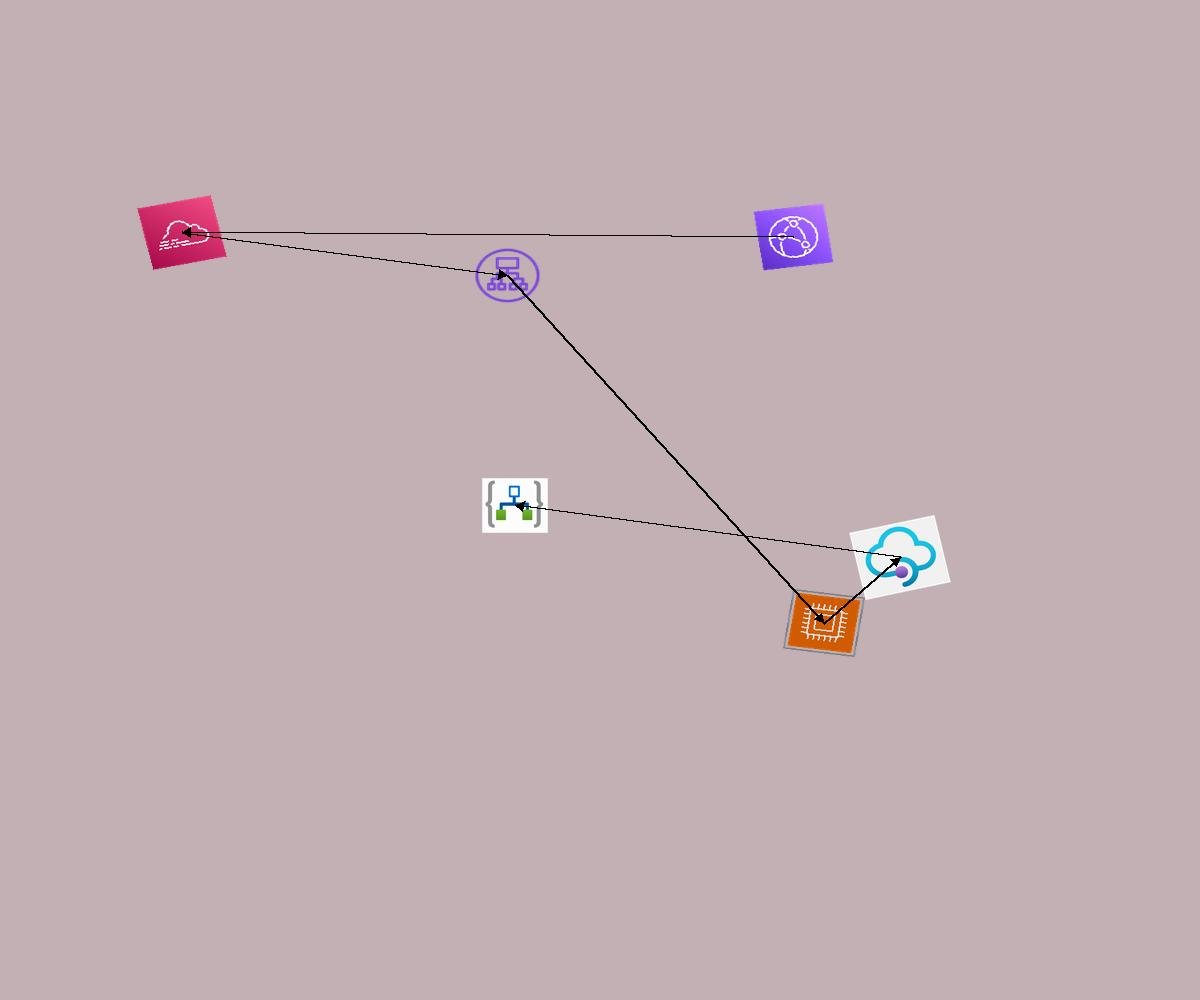AWS-Category_Compute: (783, 589, 865, 657)
AWS-CloudFront: (753, 203, 834, 271)
AWS-CloudTrail: (137, 195, 227, 270)
AWS-Res_Elastic-Load-Balancing_Application-Load-Balancer: (471, 245, 544, 306)
Azure_api_gateway: (849, 515, 951, 600)
Azure_integration-204-Logic-Apps: (482, 478, 548, 533)
